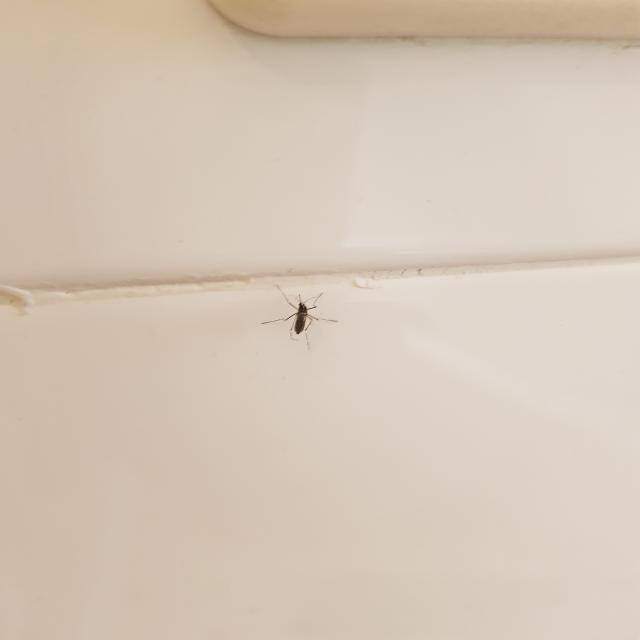albopictus: (257, 280, 340, 347)
